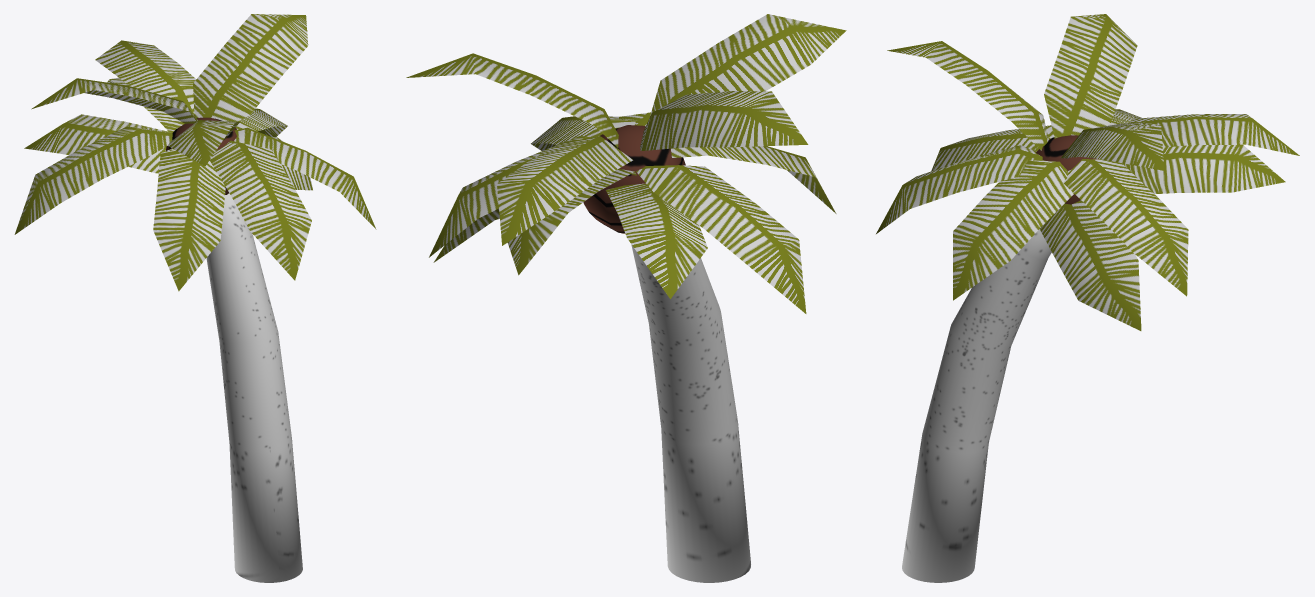
The model's file is PalmTree.glb.
The picture shows the model from 3 angles, left to right: view 1: azimuth 30°, elevation 25°; view 2: azimuth 150°, elevation 25°; view 3: azimuth 270°, elevation 25°; orthographic projection. The views are drawn at different scales.
Visible parts, largest first — view 1: PalmTree; view 2: PalmTree; view 3: PalmTree.
Boxes of the visible parts, x1,y1,x2,y2 form: PalmTree: (14,14,376,582); PalmTree: (406,14,846,582); PalmTree: (876,14,1299,582).
Bounding box in the file's own units: 6.28 × 8.92 × 6.98.
3 materials, 3 textured.
